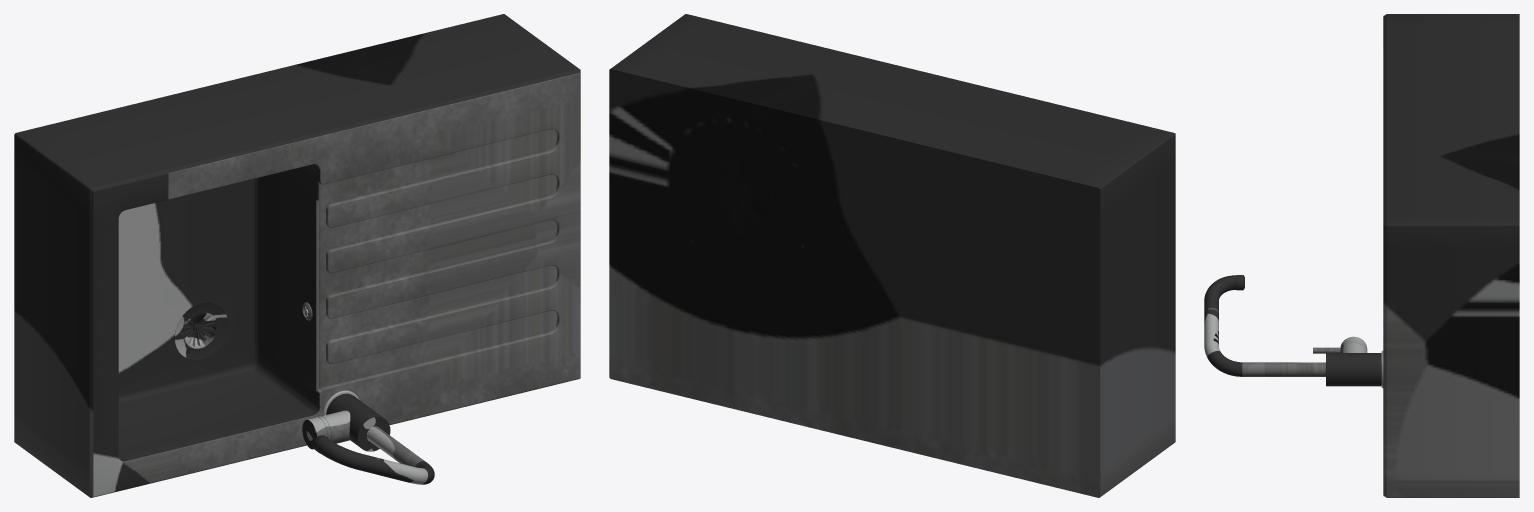
File: fixture.glb
The picture shows the model from 3 angles, left to right: view 1: azimuth 30°, elevation 25°; view 2: azimuth 150°, elevation 25°; view 3: azimuth 270°, elevation 25°; orthographic projection. The views are drawn at different scales.
Parts seen in each view (by area): view 1: fixture_object_0, fixture_spout_1, fixture_handle_2; view 2: fixture_object_0; view 3: fixture_object_0, fixture_spout_1, fixture_handle_2.
Part boxes in pixels (x1,y1,x2,y2): fixture_object_0: (14,14,580,497); fixture_spout_1: (313,426,434,484); fixture_handle_2: (302,416,331,449); fixture_object_0: (609,14,1175,497); fixture_object_0: (1325,14,1519,497); fixture_spout_1: (1204,275,1325,376); fixture_handle_2: (1313,336,1367,353).
Size of the model in its own units: 0.9167 by 0.5531 by 0.5778.
Materials: 1 (1 with a texture image).
